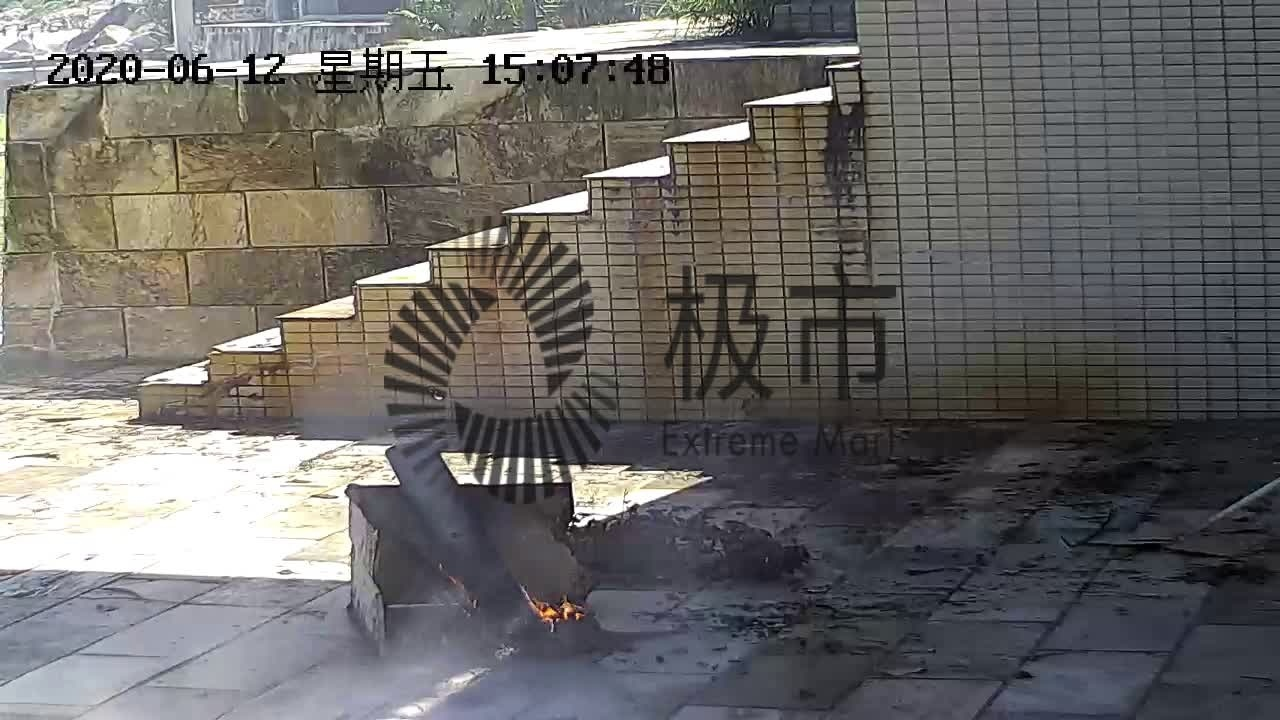fire: (519, 581, 593, 630), (433, 559, 479, 612)
